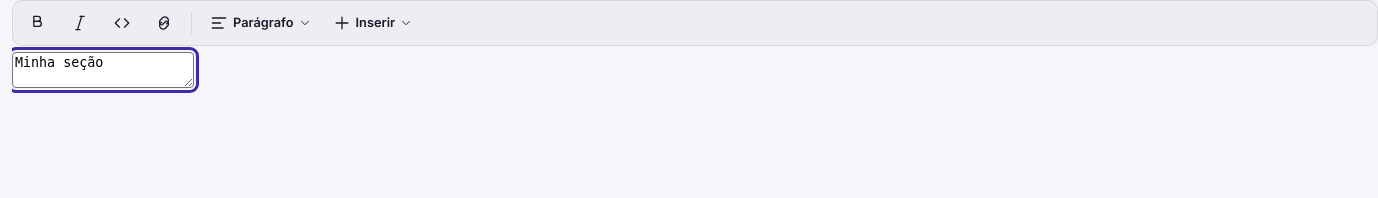
Test: MarkdownToolbar › dropdown Parágrafo abre, aplica H2 na linha do cursor e fecha o menu
Click the button with aria-label "Estilo de parágrafo" at (259, 23), box x1=200 y1=7 x2=319 y2=39
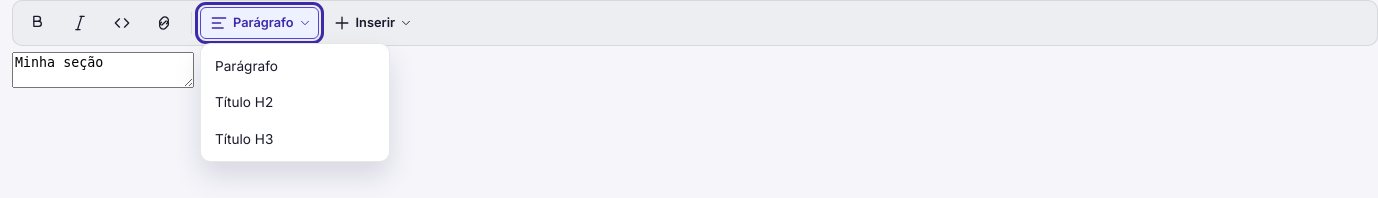
Click the button "Título H2" at (295, 103), box x1=205 y1=84 x2=385 y2=121
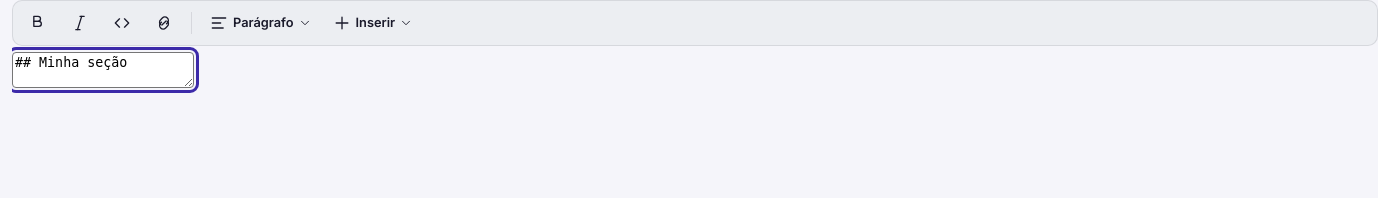
expect the text box named "corpo" holds "## Minha seção": met, box x1=12 y1=52 x2=194 y2=88
